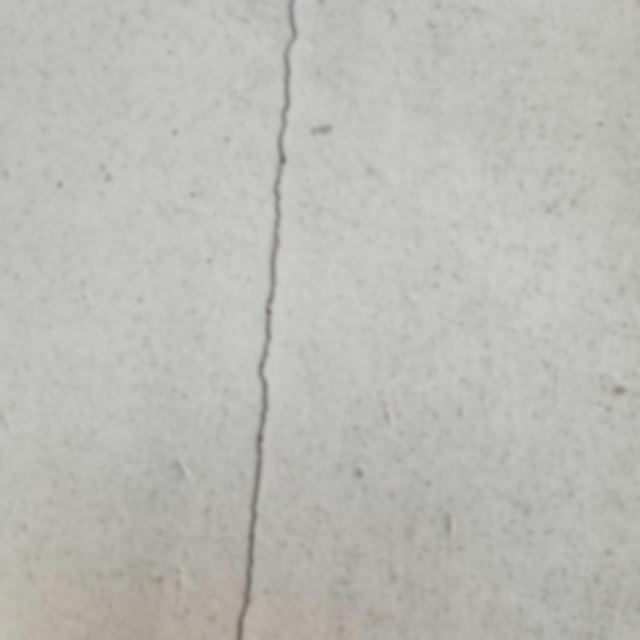SurfaceCrack: (200, 1, 337, 639)
